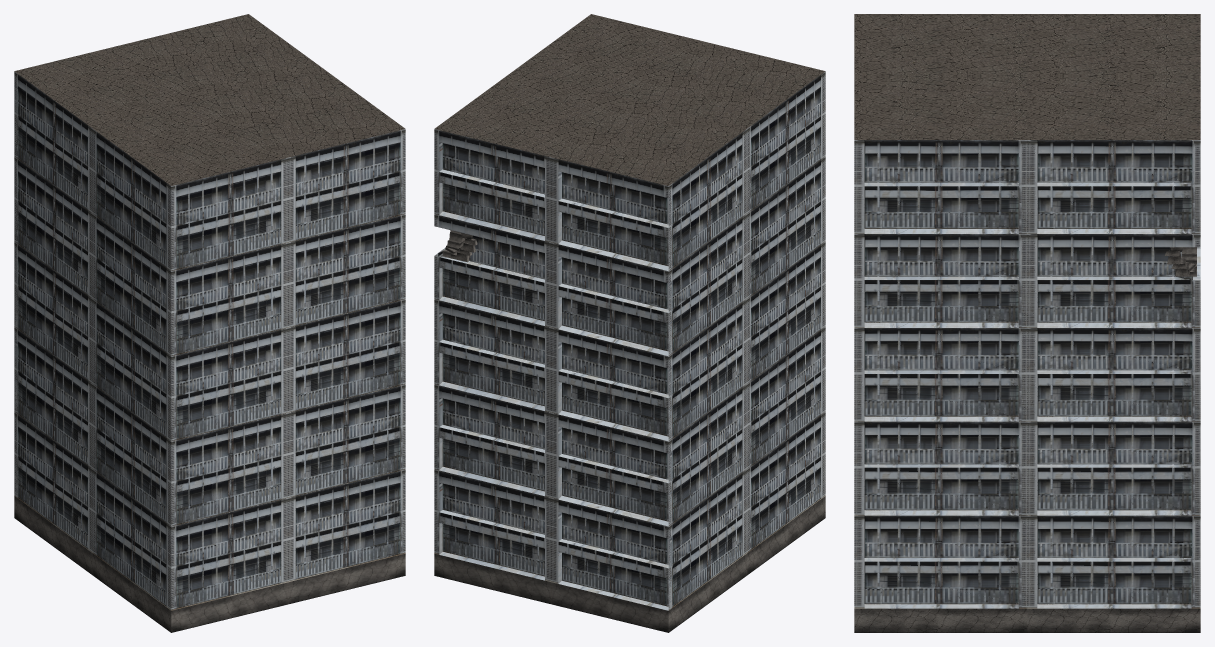
Rendered from High_house_01.FBX.
3 views of the same model, side by side, from view 1: azimuth 30°, elevation 25°; view 2: azimuth 150°, elevation 25°; view 3: azimuth 270°, elevation 25° (orthographic). The views are drawn at different scales.
Visible parts, largest first — view 1: t; view 2: t; view 3: t.
Boxes of the visible parts, <box> form: t: <box>14,14,405,632</box>; t: <box>434,14,825,632</box>; t: <box>854,14,1200,632</box>.
Bounding box in the file's own units: 7.84 × 14.32 × 9.09.
